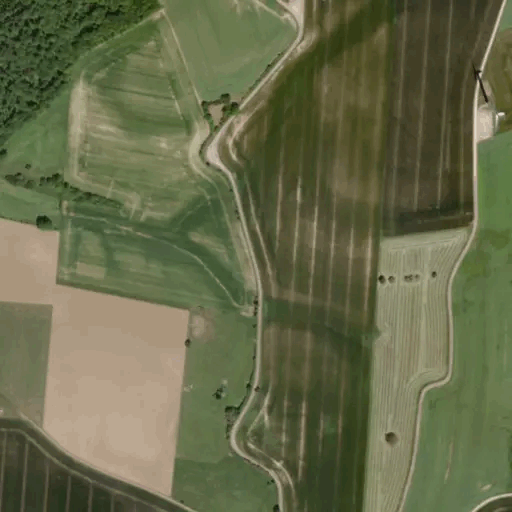wt: (465, 59, 509, 134)
